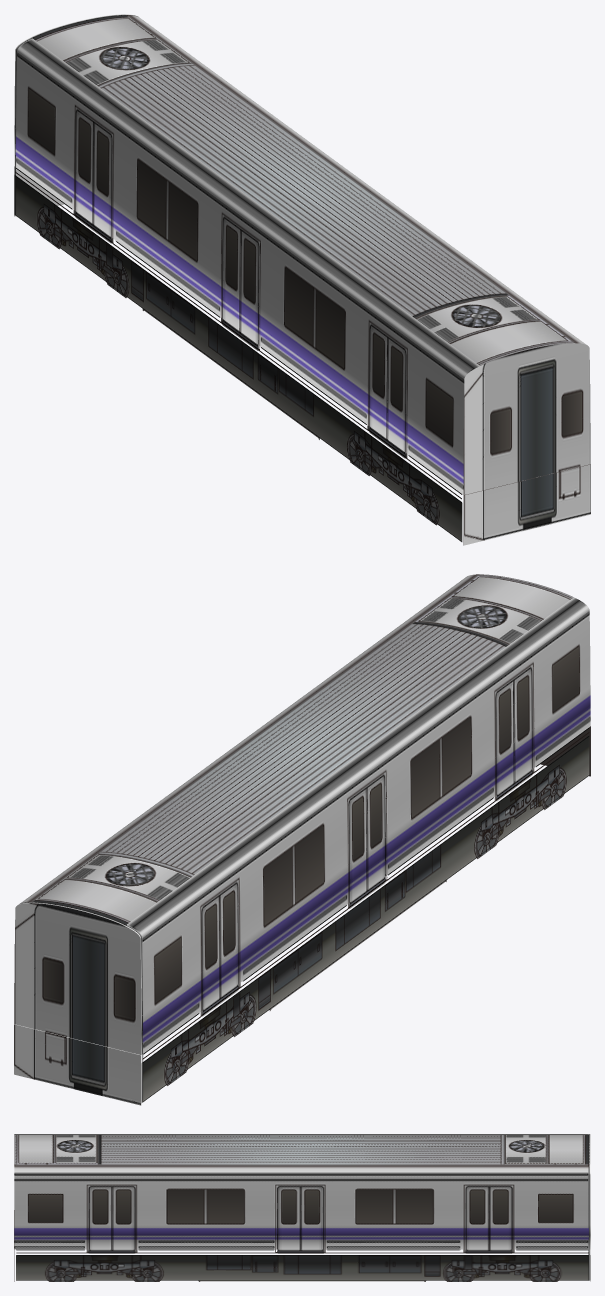
The model's file is car5.glb.
3 views of the same model, one above another, from view 1: azimuth 30°, elevation 25°; view 2: azimuth 150°, elevation 25°; view 3: azimuth 270°, elevation 25° (orthographic). The views are drawn at different scales.
Parts seen in each view (by area): view 1: nagoyasub-2000-car5; view 2: nagoyasub-2000-car5; view 3: nagoyasub-2000-car5.
Boxes of the visible parts, left/top/right/bottom form: nagoyasub-2000-car5: left=14, top=14, right=590, bottom=545; nagoyasub-2000-car5: left=14, top=574, right=590, bottom=1105; nagoyasub-2000-car5: left=14, top=1134, right=590, bottom=1281.
Size of the model in its own units: 2.55 by 3.44 by 15.61.
Materials: 9 (8 with a texture image).
